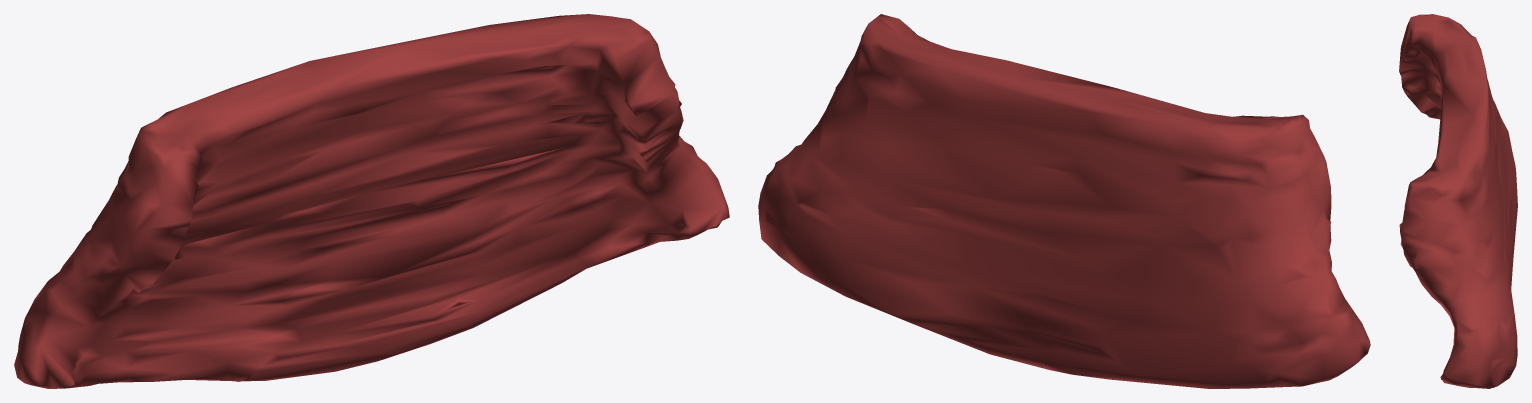
The model's file is transverse-arytenoid-muscle.glb.
3 views of the same model, side by side, from view 1: azimuth 30°, elevation 25°; view 2: azimuth 150°, elevation 25°; view 3: azimuth 270°, elevation 25° (orthographic). The views are drawn at different scales.
Visible parts, largest first — view 1: Transverse arytenoid muscle; view 2: Transverse arytenoid muscle; view 3: Transverse arytenoid muscle.
Boxes of the visible parts, <box> form: Transverse arytenoid muscle: <box>14,14,729,388</box>; Transverse arytenoid muscle: <box>758,14,1370,388</box>; Transverse arytenoid muscle: <box>1399,14,1517,388</box>.
Bounding box in the file's own units: 0.0147 × 0.00623 × 0.00306.
